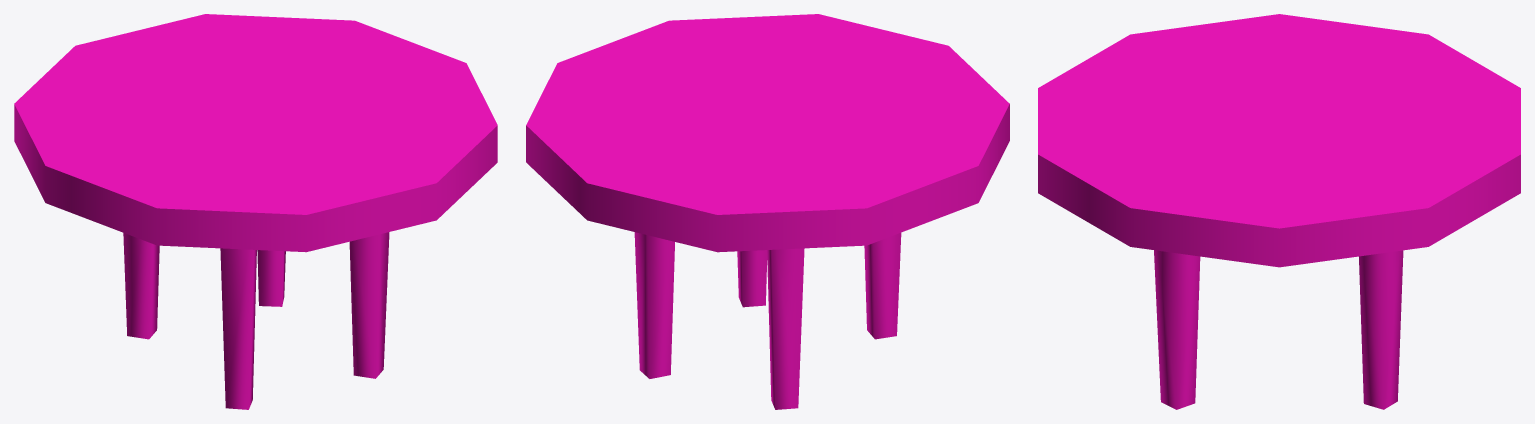
The model's file is study_table_round_1_meshCollider.fbx.
The picture shows the model from 3 angles, left to right: view 1: azimuth 30°, elevation 25°; view 2: azimuth 150°, elevation 25°; view 3: azimuth 270°, elevation 25°; orthographic projection. The views are drawn at different scales.
Visible parts, largest first — view 1: study_table_round_1_meshCollider; view 2: study_table_round_1_meshCollider; view 3: study_table_round_1_meshCollider.
Boxes of the visible parts, left/top/right/bottom form: study_table_round_1_meshCollider: left=14, top=14, right=497, bottom=409; study_table_round_1_meshCollider: left=526, top=14, right=1009, bottom=409; study_table_round_1_meshCollider: left=1038, top=14, right=1520, bottom=409.
Bounding box in the file's own units: 85.14 × 46.02 × 80.98.
